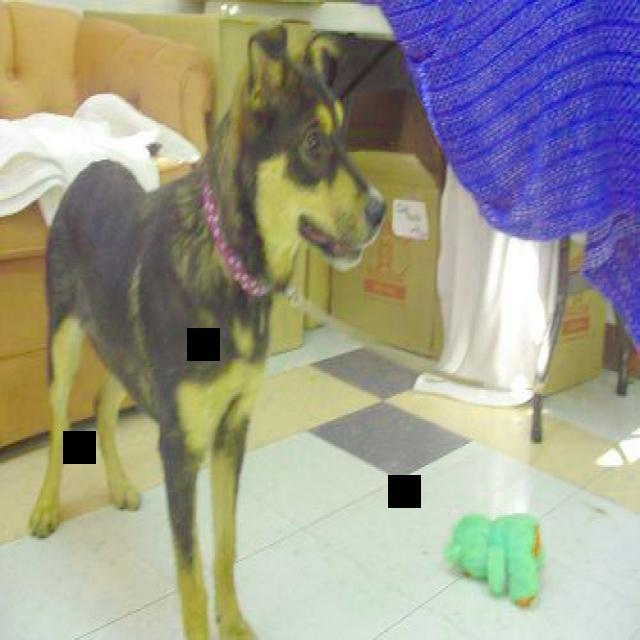adult_dog: (24, 25, 388, 640)
